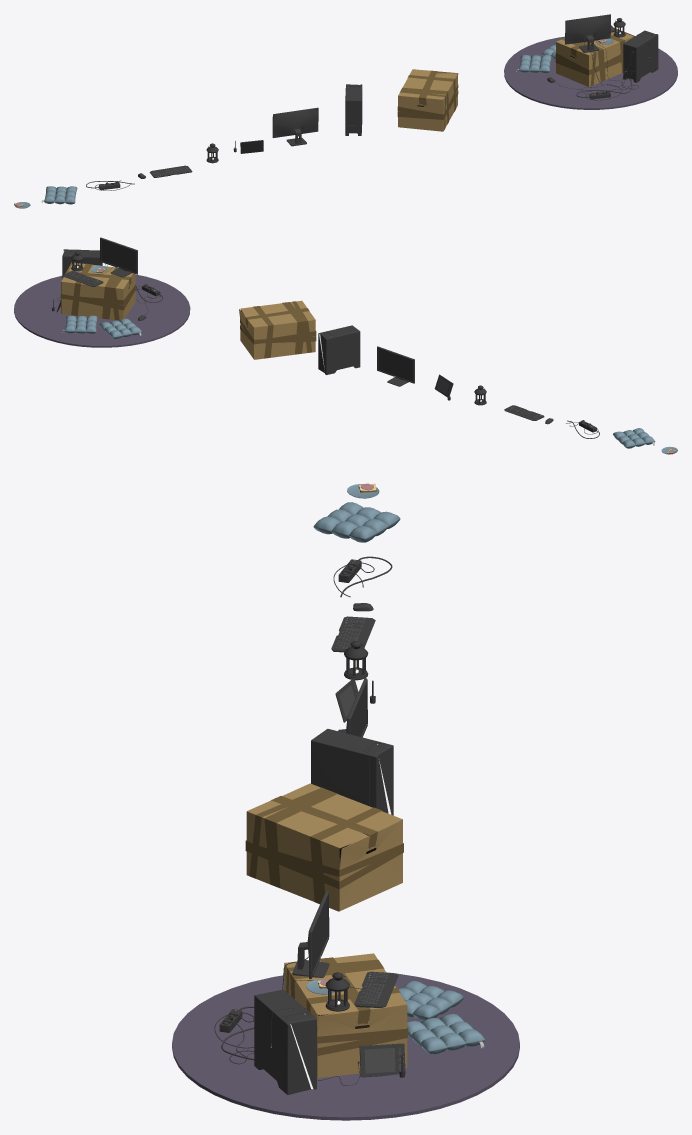
3 views of the same model, one above another, from view 1: azimuth 30°, elevation 25°; view 2: azimuth 150°, elevation 25°; view 3: azimuth 270°, elevation 25° (orthographic). The views are drawn at different scales.
Parts seen in each view (by area): view 1: pCylinder28, polySurface118 (×2), comp, polySurface272, polySurface151 (×2), polySurface263, comp1, polySurface123 (×2), polySurface125, polySurface124, polySurface113; view 2: pCylinder28, polySurface118 (×2), comp1, polySurface151 (×3), polySurface263, polySurface272, comp, polySurface125, polySurface124, polySurface117, polySurface113, polySurface123; view 3: pCylinder28, polySurface117 (×2), polySurface151 (×3), comp, comp1, polySurface118, polySurface125, polySurface124, polySurface113, polySurface263, polySurface123.
Part boxes in pixels (x1,y1,x2,y2): pCylinder28: [504, 36, 677, 109]; polySurface118 (×2): [398, 37, 633, 131]; comp: [623, 30, 658, 82]; polySurface272: [272, 107, 318, 137]; polySurface151 (×2): [44, 55, 551, 204]; polySurface263: [565, 14, 610, 44]; comp1: [345, 84, 362, 135]; polySurface123 (×2): [397, 53, 623, 119]; polySurface125: [398, 69, 430, 97]; polySurface124: [426, 73, 457, 99]; polySurface113: [555, 53, 623, 74]; pCylinder28: [14, 274, 190, 347]; polySurface118 (×2): [61, 273, 315, 359]; comp1: [318, 325, 360, 374]; polySurface151 (×3): [64, 315, 655, 448]; polySurface263: [100, 237, 137, 274]; polySurface272: [377, 346, 414, 383]; comp: [62, 249, 102, 278]; polySurface125: [248, 311, 315, 327]; polySurface124: [240, 300, 306, 317]; polySurface117: [239, 309, 254, 359]; polySurface113: [60, 284, 135, 304]; polySurface123: [240, 319, 316, 343]; pCylinder28: [172, 972, 519, 1120]; polySurface117 (×2): [317, 820, 407, 1077]; polySurface151 (×3): [313, 502, 484, 1054]; comp: [254, 989, 316, 1094]; comp1: [311, 729, 393, 815]; polySurface118: [246, 811, 375, 911]; polySurface125: [282, 783, 402, 831]; polySurface124: [247, 800, 368, 848]; polySurface113: [245, 840, 403, 889]; polySurface263: [307, 891, 329, 978]; polySurface123: [245, 842, 403, 876].
Size of the model in its own units: 52.59 by 4.91 by 12.26.
